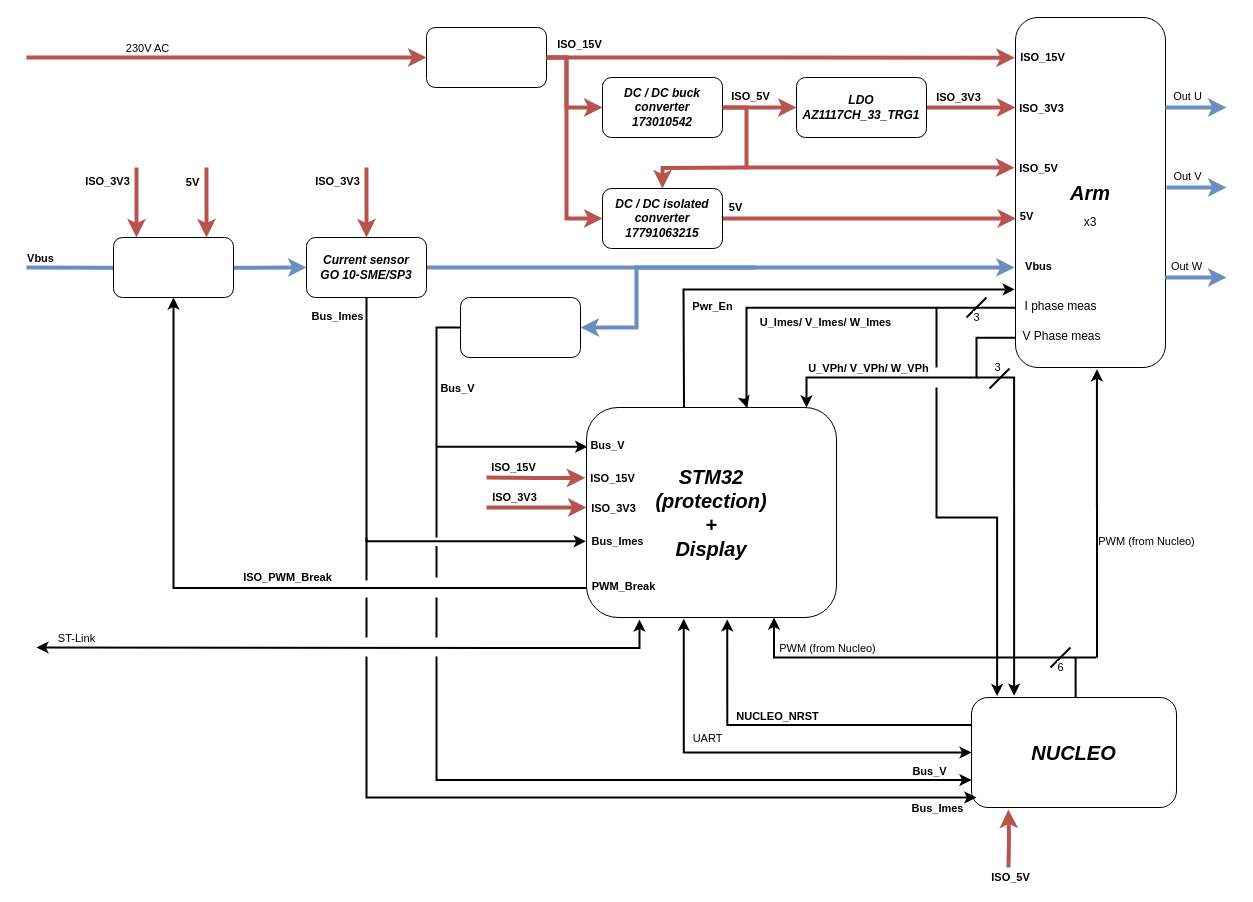
Image size: 1253x902. Some labels were removed from this diagram. Here are the shapes that lost their labels. From the top down, the centre of each, then its label:
At point (486, 57): "AC/DC converter MP_LD30_23B15R2".
At point (173, 267): "Break Module".
At point (520, 327): "Isolation amplifier HCPL-7800".
